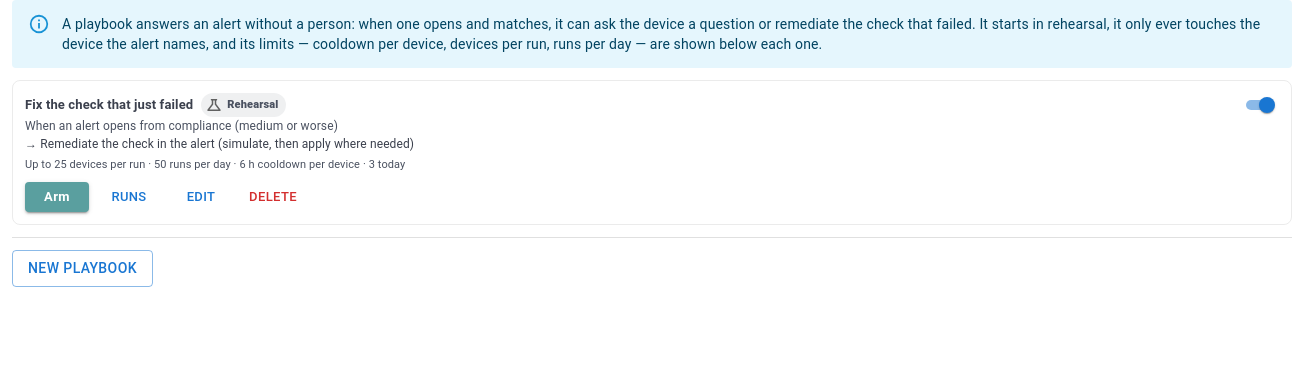
Test: PlaybooksTab › ⭐ las corridas enseñan el nombre del equipo, y el UUID sólo cuando no hay otro
Step 1. Click the button "Runs" → (129, 197), box top-left (97, 182), bottom-right (161, 212)
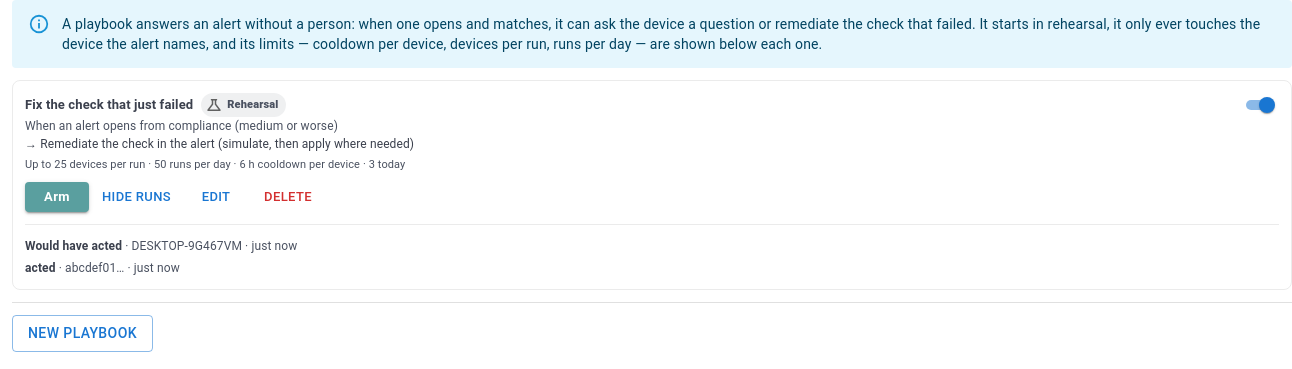
Result: the text "DESKTOP-9G467VM" is shown at top-left (132, 239), bottom-right (242, 253)
